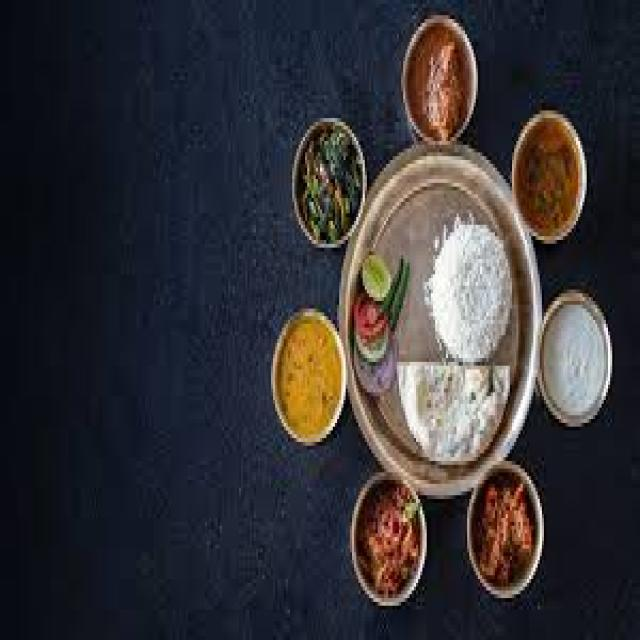curd: (538, 296, 612, 435)
pickle: (346, 486, 429, 598), (472, 475, 540, 579)
raita: (539, 298, 613, 432)
rice: (423, 224, 522, 370), (395, 358, 505, 468)
